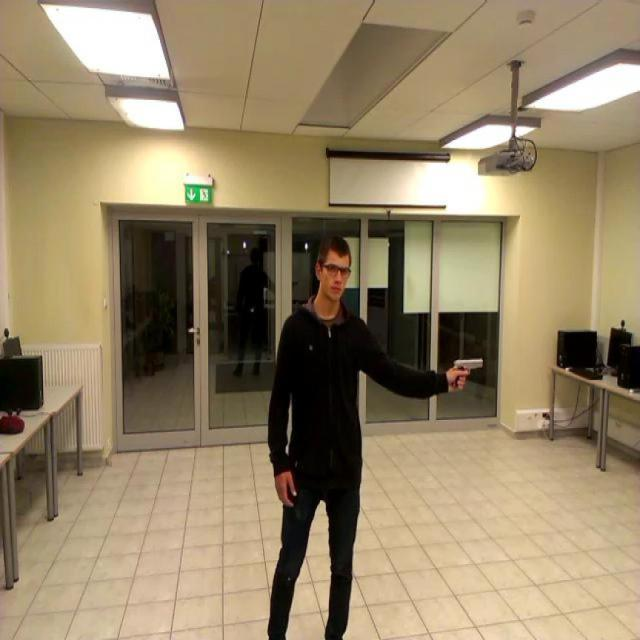pistol: (452, 357, 484, 387)
